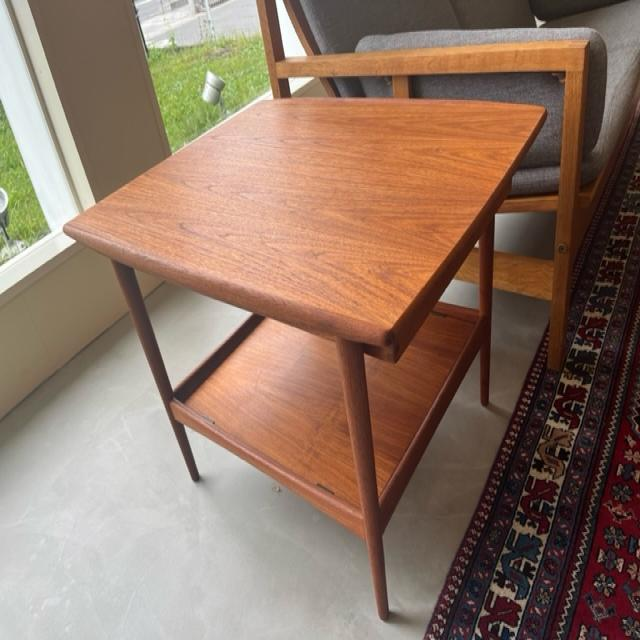vintage desk: (83, 93, 549, 626)
